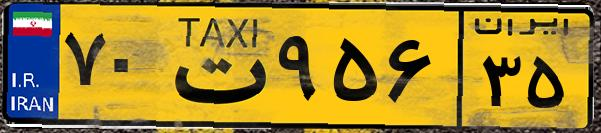0: (110, 28, 158, 98)
3: (475, 38, 525, 113)
5: (330, 28, 385, 110), (525, 38, 570, 115)
6: (385, 28, 445, 110)
7: (57, 26, 110, 100)
9: (270, 28, 330, 110)
ت: (158, 12, 270, 120)
